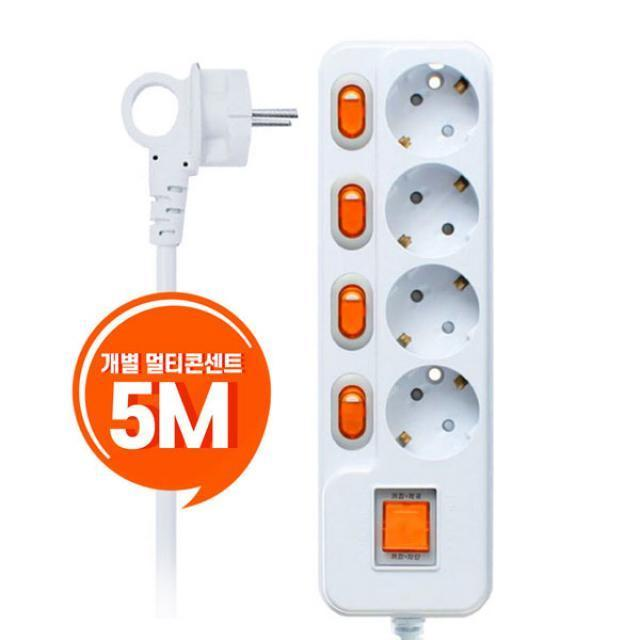typeb: (312, 27, 497, 627)
